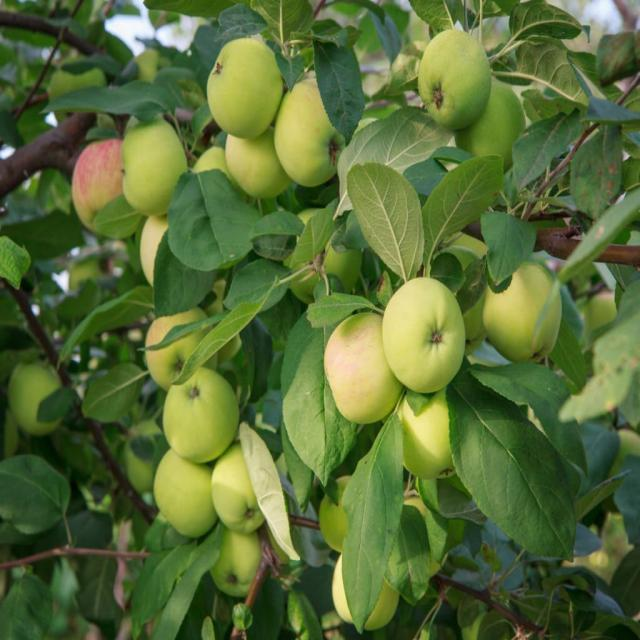Green Apple: (393, 273, 467, 391), (333, 317, 398, 426), (72, 134, 141, 235), (489, 271, 563, 362), (122, 117, 193, 211), (422, 26, 492, 119), (279, 74, 342, 176), (170, 363, 233, 461), (212, 40, 280, 130), (228, 101, 287, 198), (156, 451, 220, 540), (213, 440, 270, 530), (472, 84, 531, 169), (402, 400, 465, 478), (297, 229, 362, 299), (150, 311, 213, 381), (141, 209, 199, 283), (339, 559, 396, 631), (210, 528, 260, 603), (11, 363, 64, 431), (121, 417, 166, 488), (325, 476, 366, 549)
